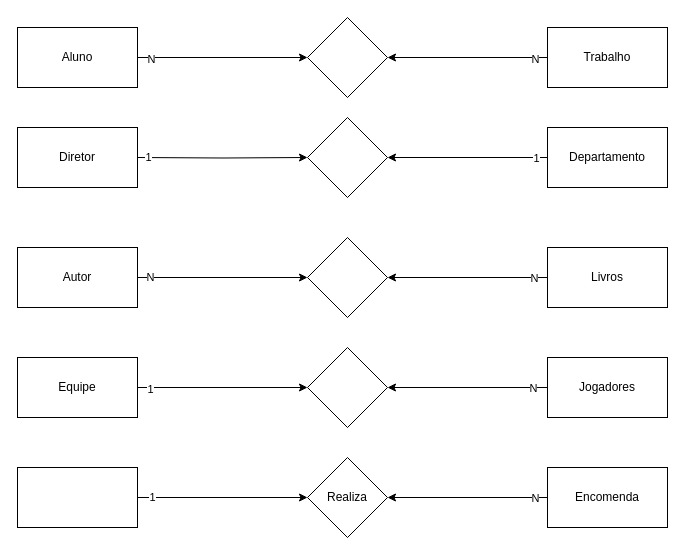
Some shapes in this 685 by 555 pixel diagram are drawn without their labels. Each missing label, with the box of its shape:
Cliente: (16, 466, 138, 528)
Composta: (306, 346, 388, 428)
Dirige: (306, 116, 388, 198)
Escreve: (306, 236, 388, 318)
Faz: (306, 16, 388, 98)
